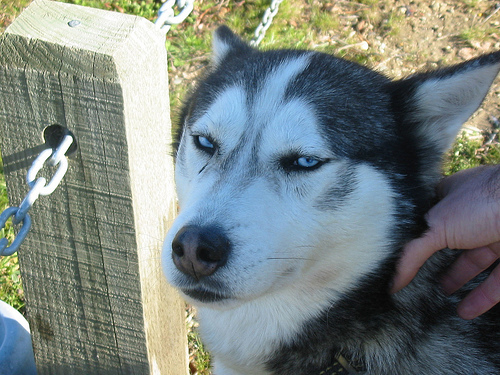dog: (157, 18, 498, 373)
